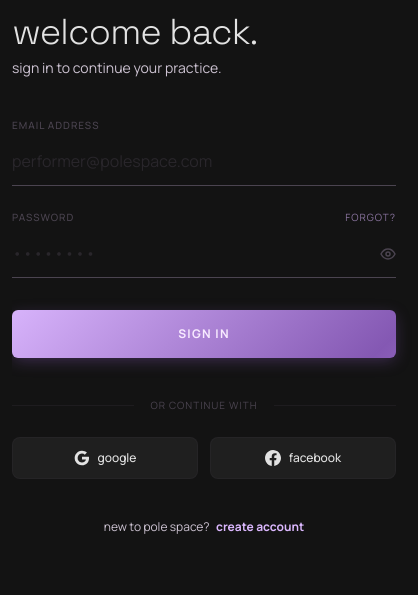
Test case: LoginForm › shows validation error when email is empty on submit
Click the button "sign in".
click(204, 334)  # box [12,310,396,358]
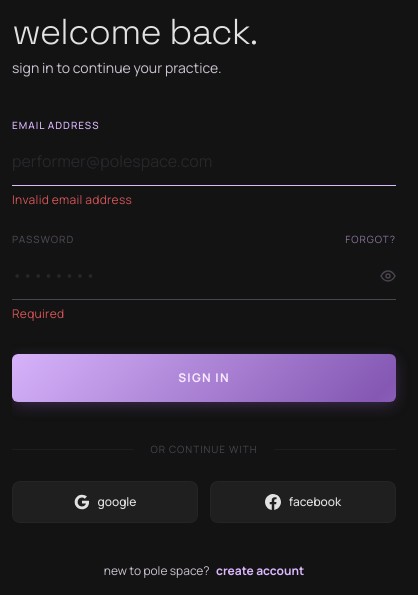
Check: the text "Invalid email address" is shown, box [12,191,132,208]
